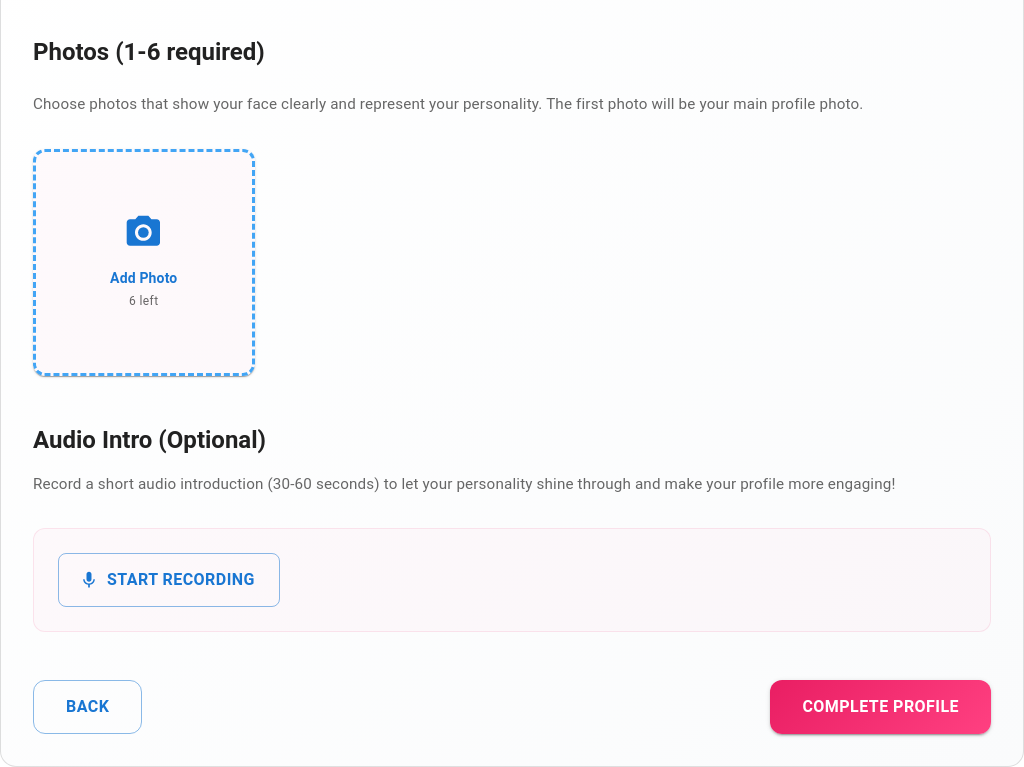
MediaStep Validation › Photo Upload Validation › should show error when no photos are uploaded
(page scrolled)
Click the button "Complete Profile": click(881, 707) [770,680,991,734]
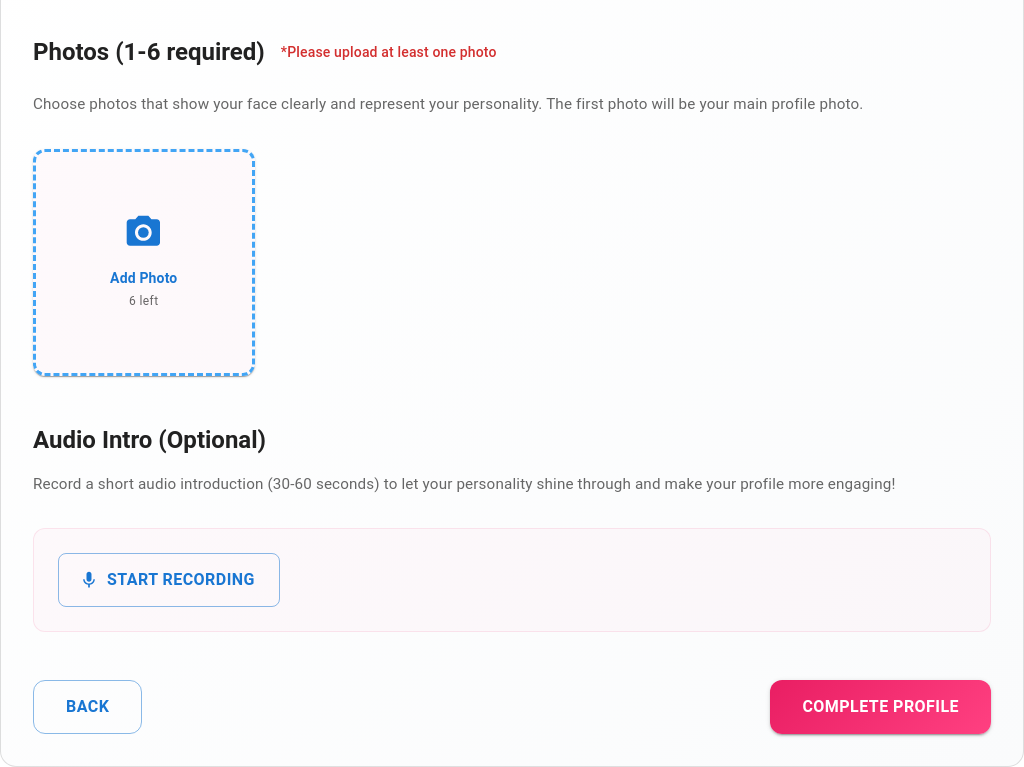
Check: the text "*Please upload at least one photo" is shown, box [281,42,497,62]
